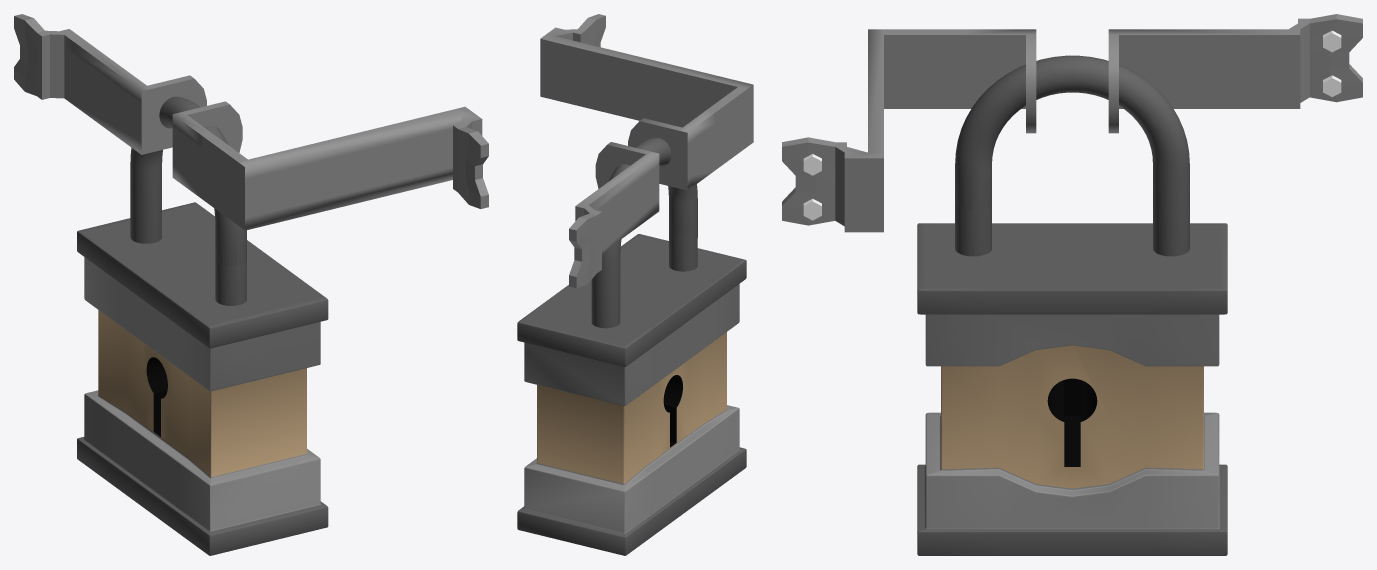
The model's file is Candado.fbx.
The picture shows the model from 3 angles, left to right: view 1: azimuth 30°, elevation 25°; view 2: azimuth 150°, elevation 25°; view 3: azimuth 270°, elevation 25°; orthographic projection. The views are drawn at different scales.
Parts seen in each view (by area): view 1: Candado, SoporteCandado, CandadoAbierto, CandadoCerrado; view 2: Candado, SoporteCandado, CandadoAbierto, CandadoCerrado; view 3: Candado, SoporteCandado, CandadoAbierto, CandadoCerrado.
Part boxes in pixels (x1,y1,x2,y2): Candado: (77,202,328,555); SoporteCandado: (14,14,488,230); CandadoAbierto: (130,96,246,265); CandadoCerrado: (215,219,246,305); Candado: (517,234,746,555); SoporteCandado: (540,14,753,288); CandadoAbierto: (591,137,697,328); CandadoCerrado: (609,170,697,271); Candado: (917,223,1227,555); SoporteCandado: (782,14,1362,232); CandadoAbierto: (955,55,1189,256); CandadoCerrado: (955,71,1145,256).
Bounding box in the file's own units: 24.01 × 37.81 × 42.16.
